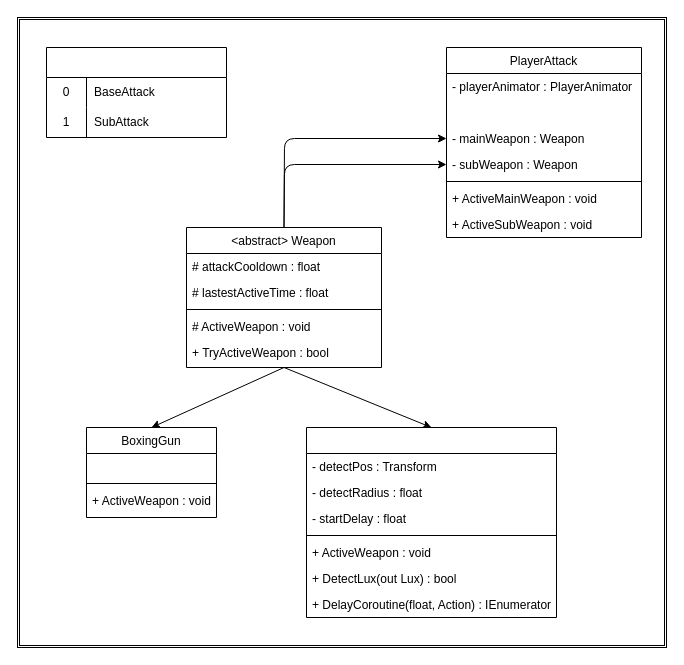
The diagram is 684 pixels wide and 665 high, and some of its shapes have lost their labels. The box of each missing label's shape, as (x1, y1, x2, y2) in pixels:
AttackFlag: (46, 46, 226, 138)
ButterflyNet: (306, 426, 556, 618)
